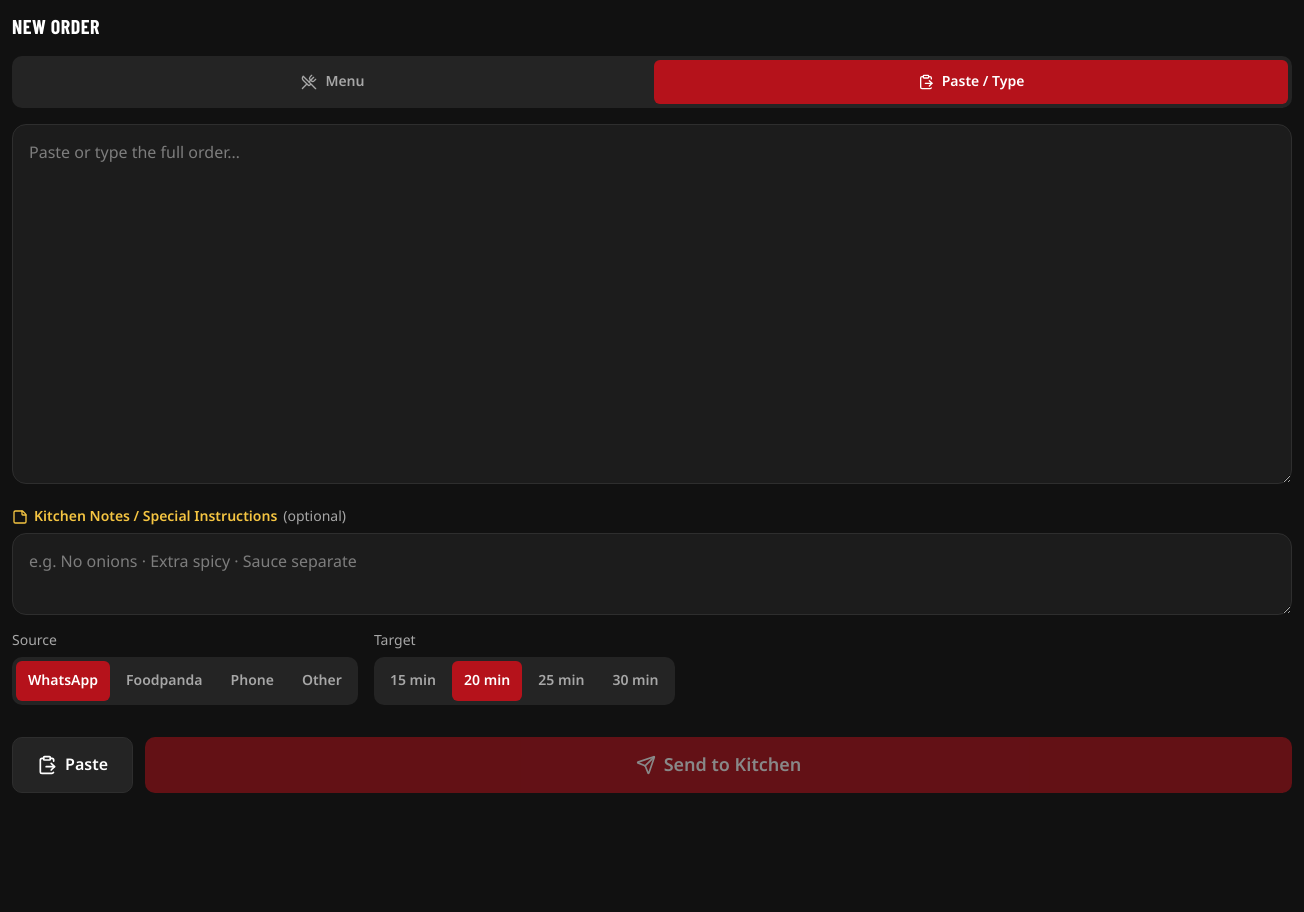
Test: OrderComposer menu mode (ADR-027) › the bin removes a line from the summary
What coordinates should you click on to do the following:
click the tab "Menu"
I would click on:
 (333, 82)
Its box is 16,60 -> 650,104.
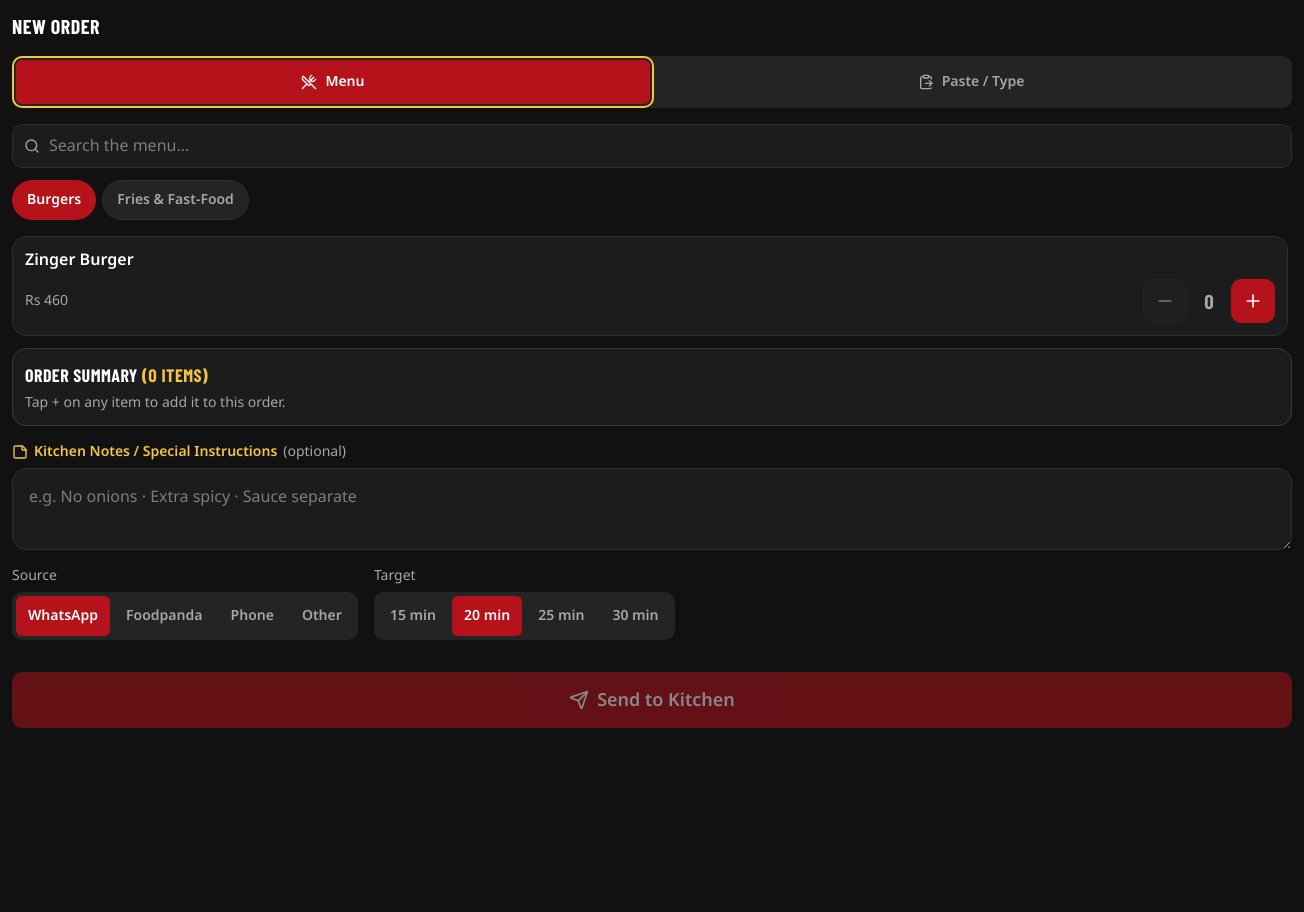
What coordinates should you click on to do the following:
click the button named "Add one Zinger Burger"
I would click on:
 (1253, 301)
Its box is 1231,279 -> 1275,323.
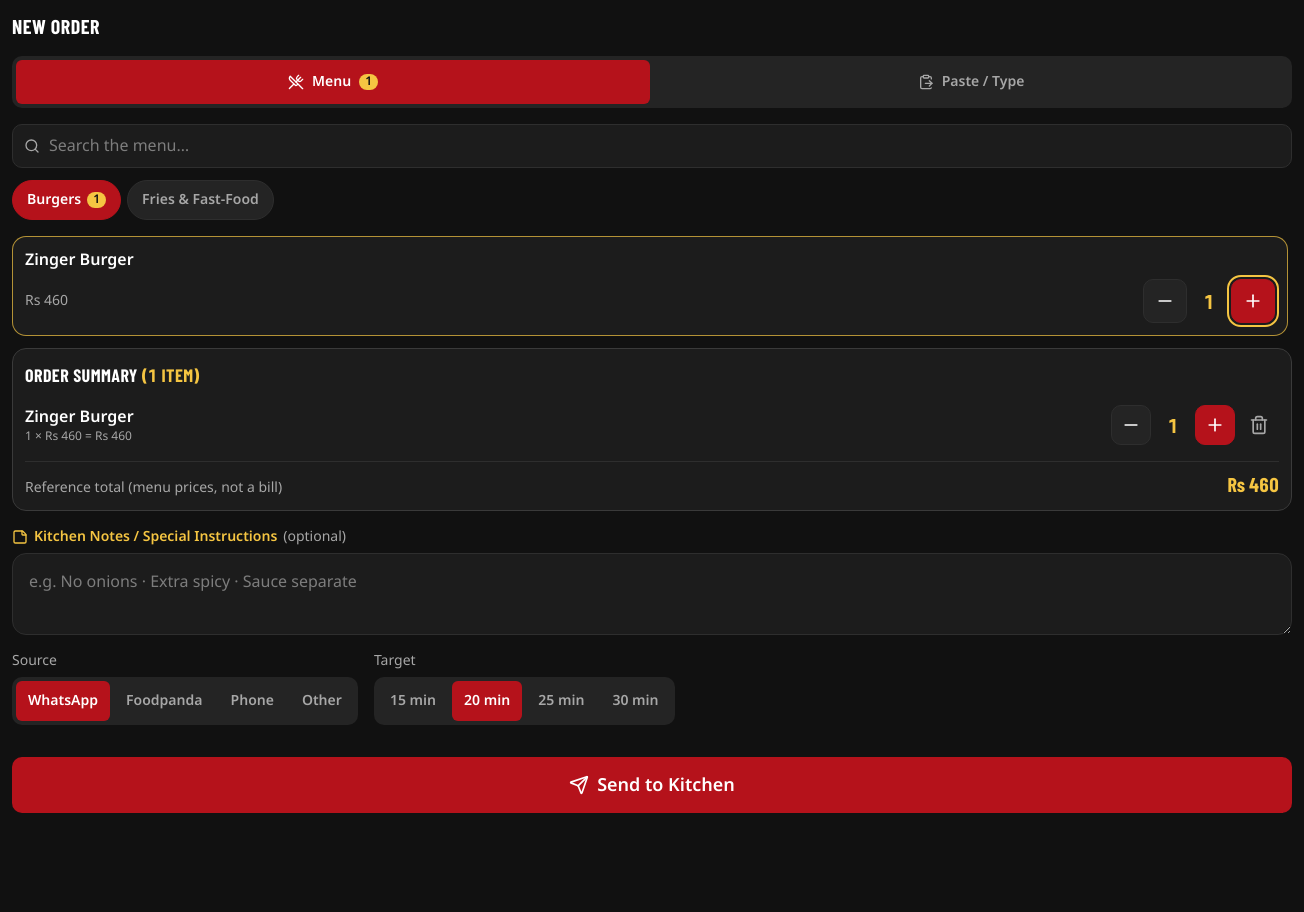
What coordinates should you click on to do the following:
click the button named "Remove Zinger Burger from the order"
I would click on:
 (1259, 425)
Its box is 1239,405 -> 1279,445.
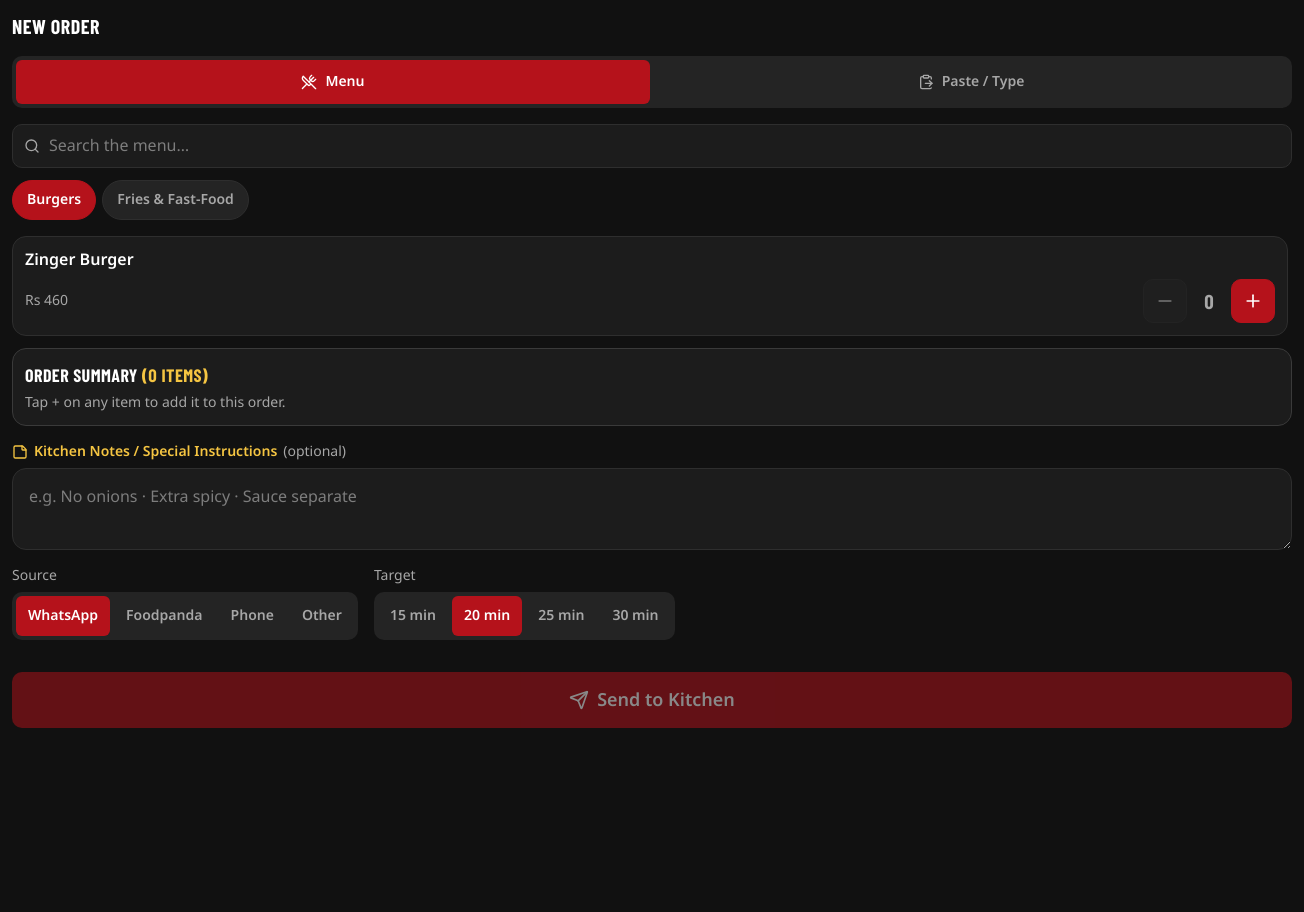
Expected: the element "Order summary" shows "(0 items)", 12,348 -> 1292,426
